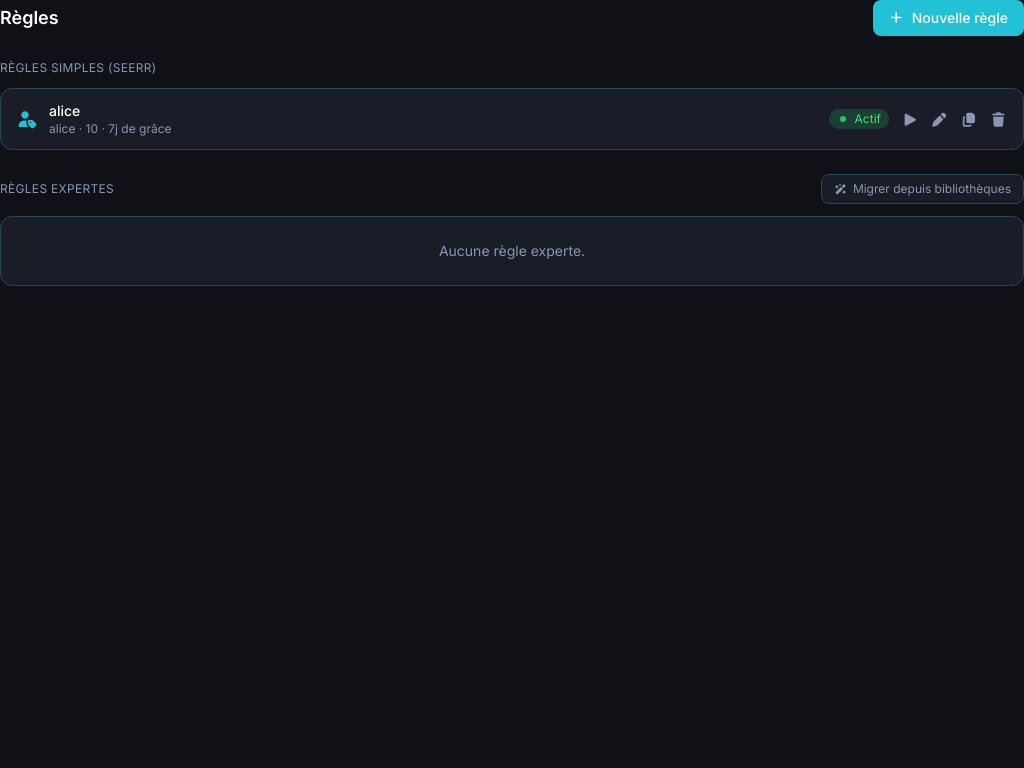
Test: RulesView › deletes the confirmed simple rule via DELETE /seerr-rules/{id}
Click the button titled "Supprimer". click: {"x": 998, "y": 119}
box: [990,107,1007,131]
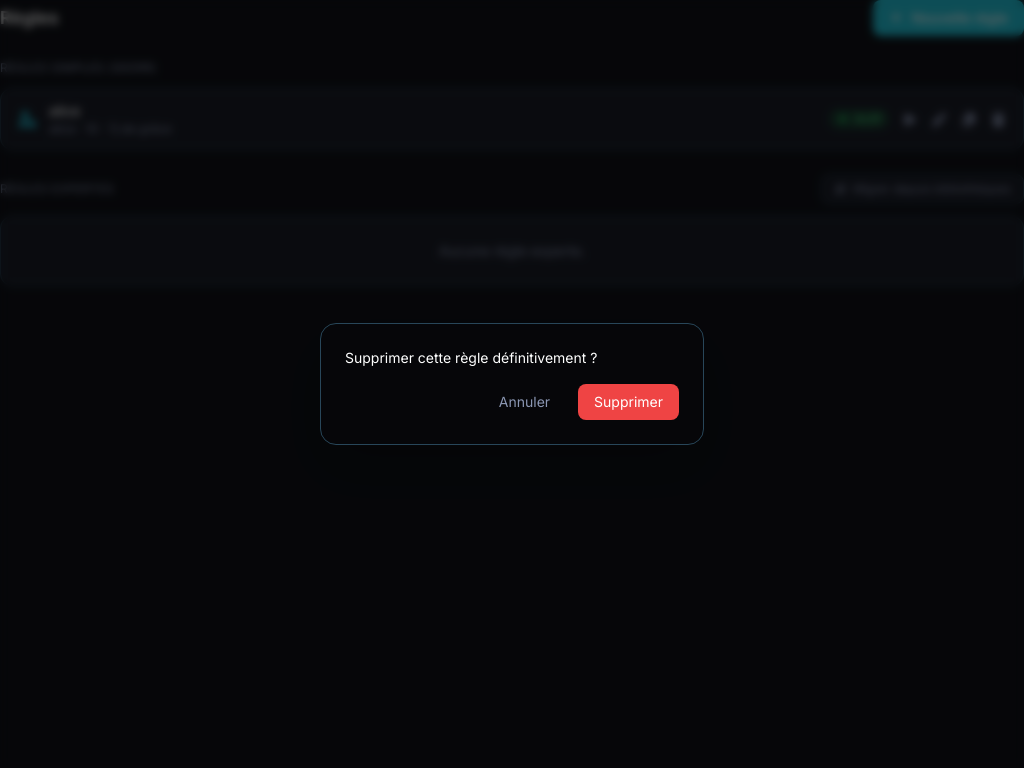
Click the button "Supprimer". click: {"x": 629, "y": 402}
box: [578,384,679,420]
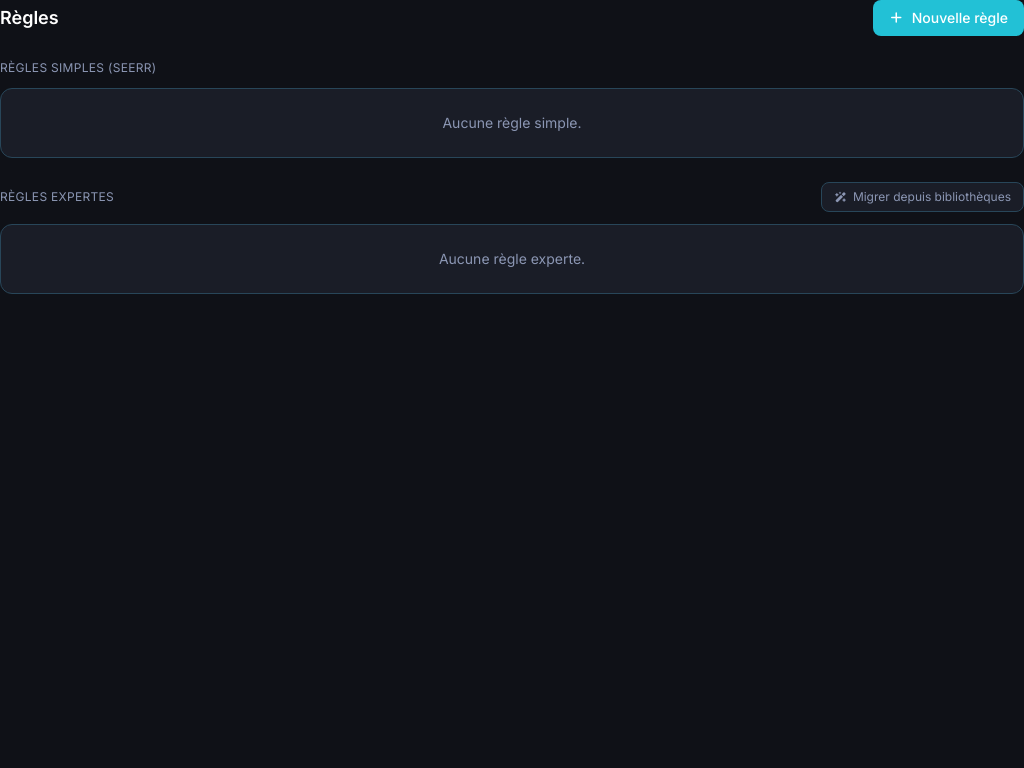
Now the text "alice" is gone
